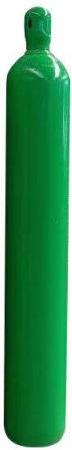cylinder: (1, 1, 72, 450)
